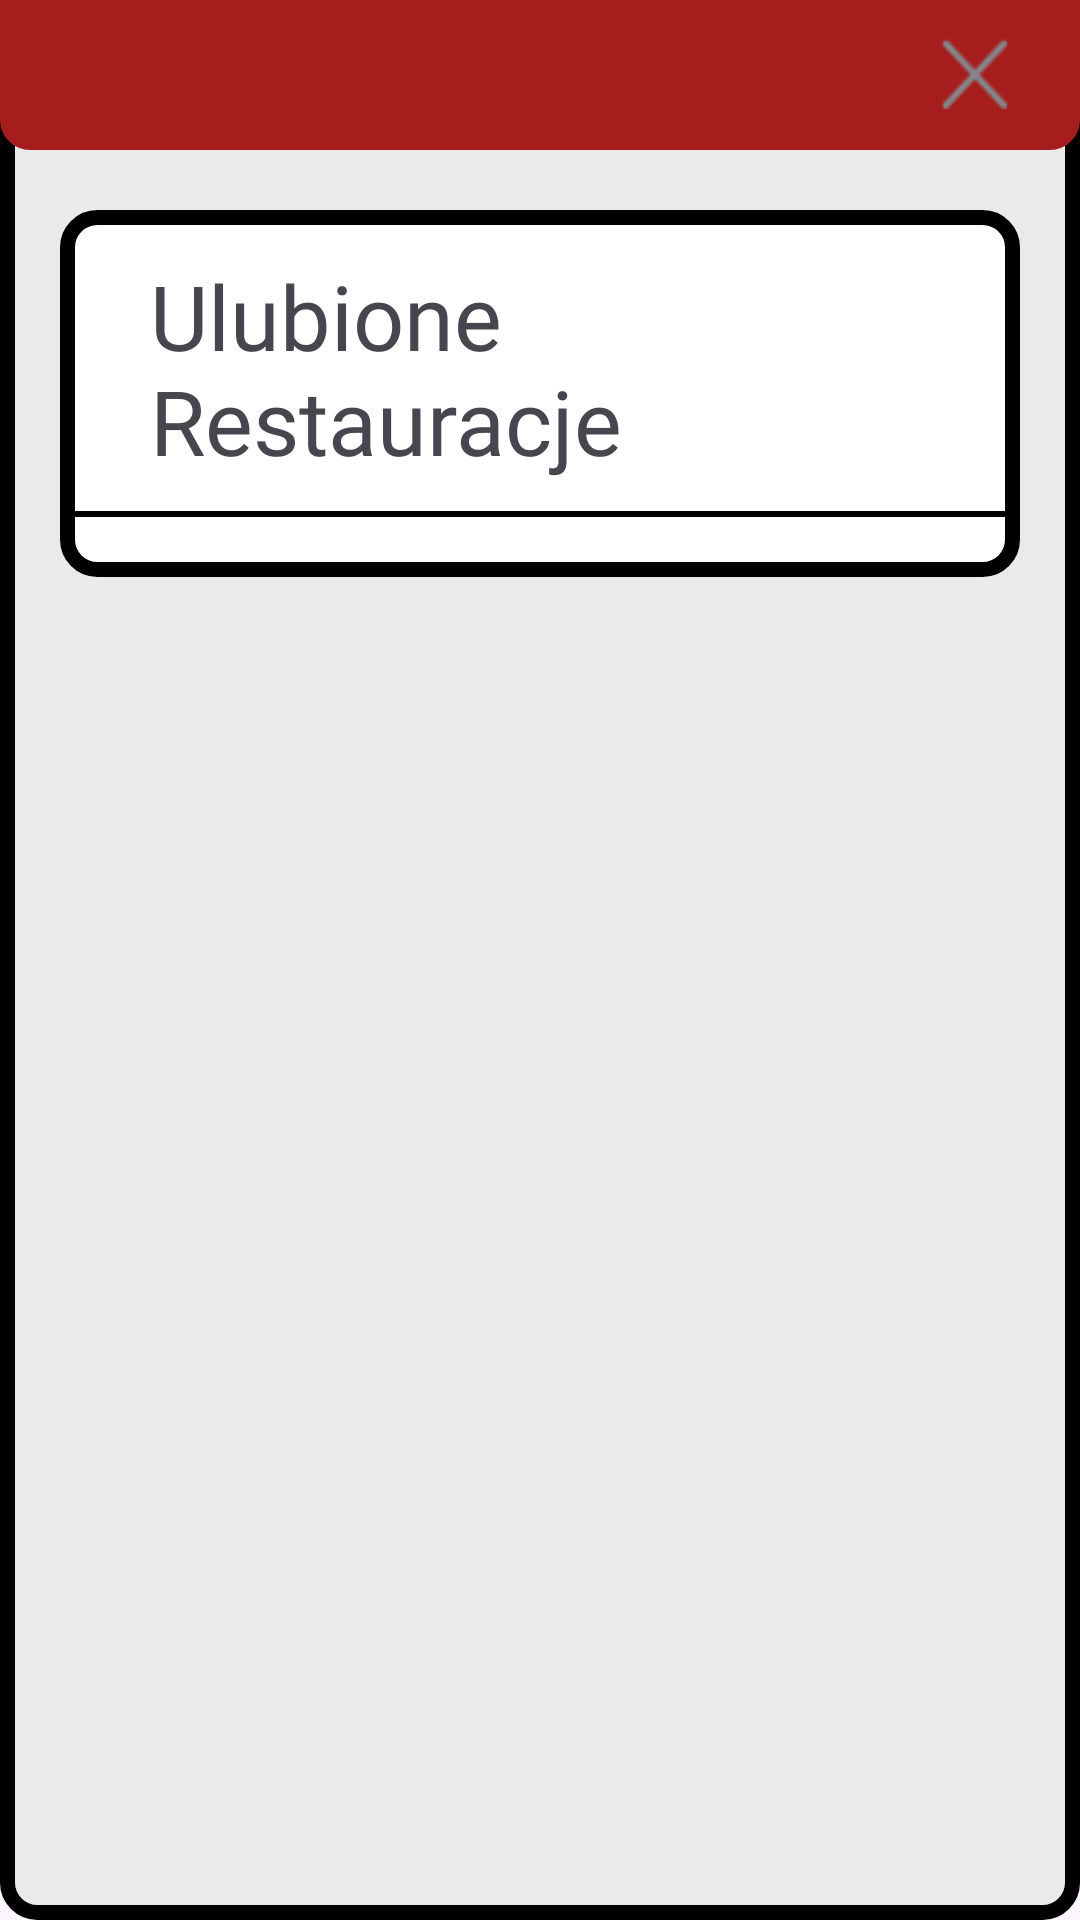

Named icons in this screenshot (1080 x 1920) and their bounding boxes, (x1, y1, x2, y2):
close photo: (942, 40, 1008, 109)
